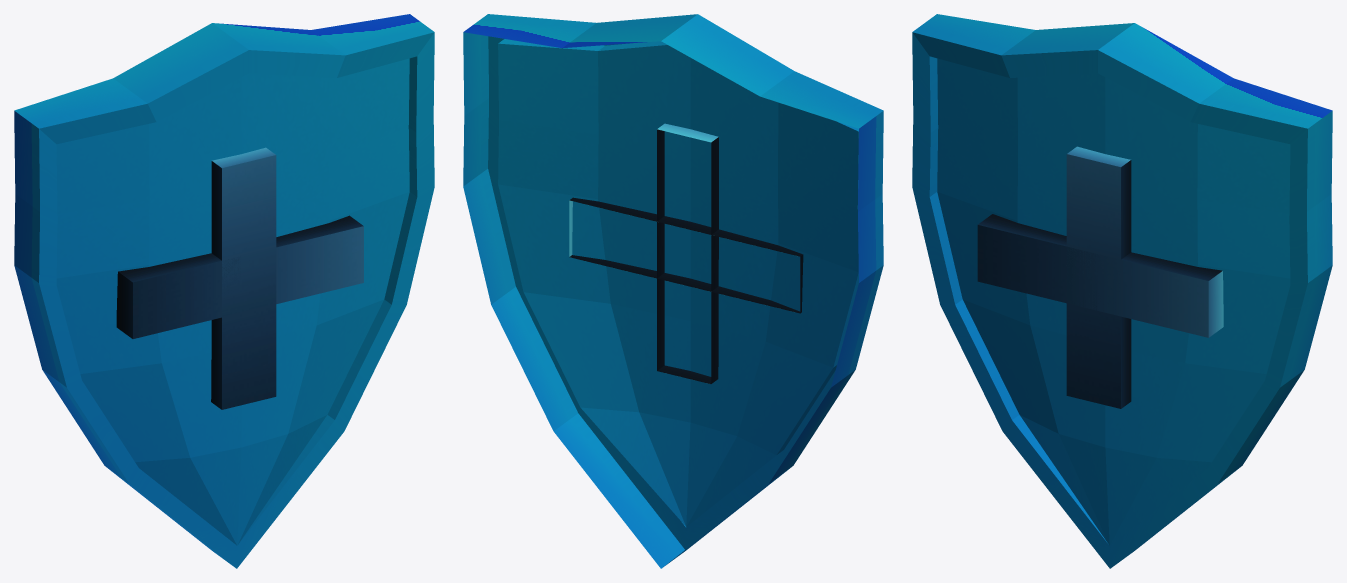
Rendered from Helth insurance.fbx.
3 renders of one model, left to right at view 1: azimuth 30°, elevation 25°; view 2: azimuth 150°, elevation 25°; view 3: azimuth 330°, elevation 25°, orthographic.
Visible parts, largest first — view 1: polySurface3, polySurface2, polySurface1; view 2: polySurface3, polySurface2, polySurface1; view 3: polySurface3, polySurface1, polySurface2.
Boxes of the visible parts, <box> form: polySurface3: <box>14,14,434,568</box>; polySurface2: <box>211,147,276,409</box>; polySurface1: <box>116,215,363,338</box>; polySurface3: <box>463,14,883,568</box>; polySurface2: <box>657,123,718,383</box>; polySurface1: <box>569,197,803,313</box>; polySurface3: <box>912,14,1332,568</box>; polySurface1: <box>977,214,1223,337</box>; polySurface2: <box>1066,146,1131,408</box>.
Size of the model in its own units: 8.45 by 10.77 by 1.44.
Materials: 2 (2 with a texture image).
